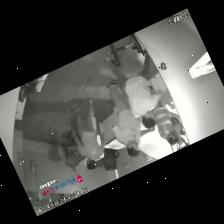person: (104, 55, 160, 127), (108, 80, 153, 156), (71, 98, 104, 169), (151, 101, 181, 144)
